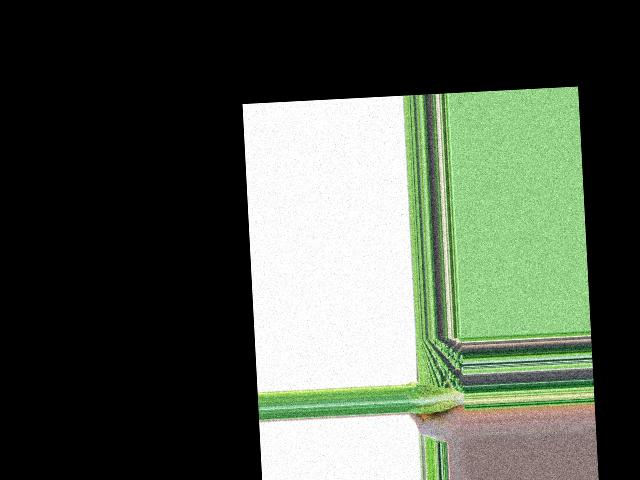lettuce: (407, 380, 466, 414)
